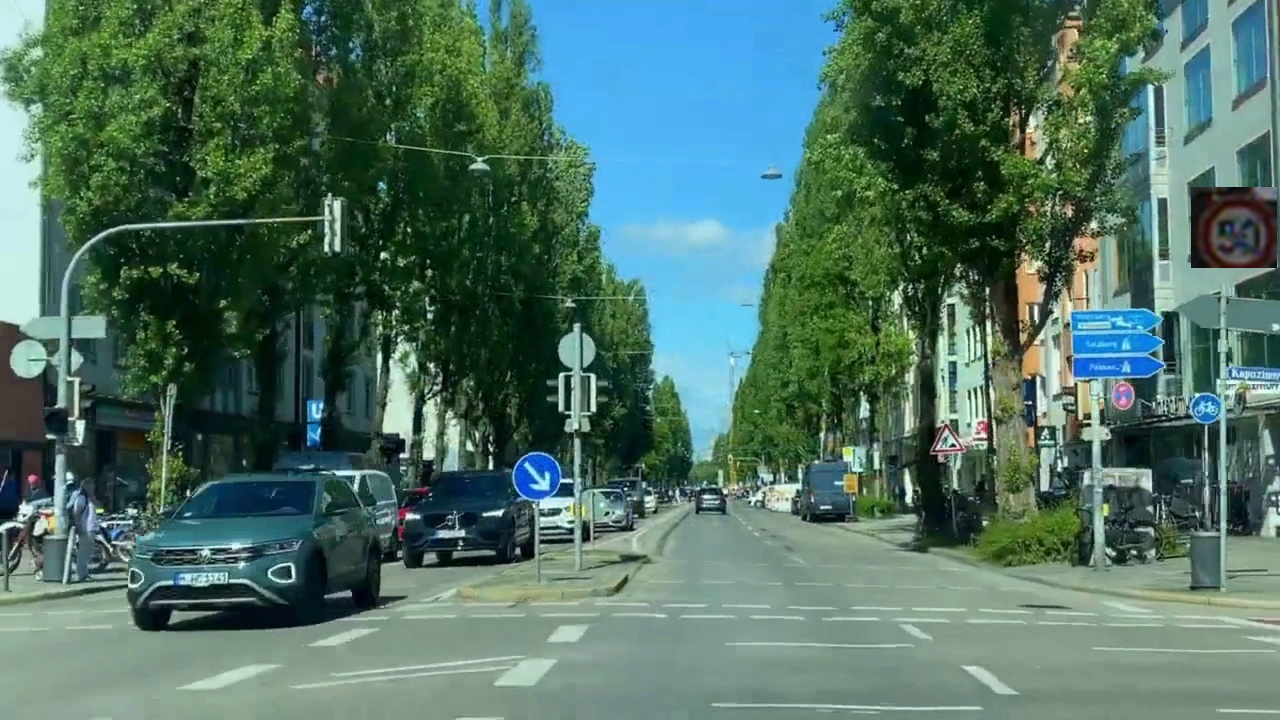Speed 50: (1191, 187, 1277, 268)
